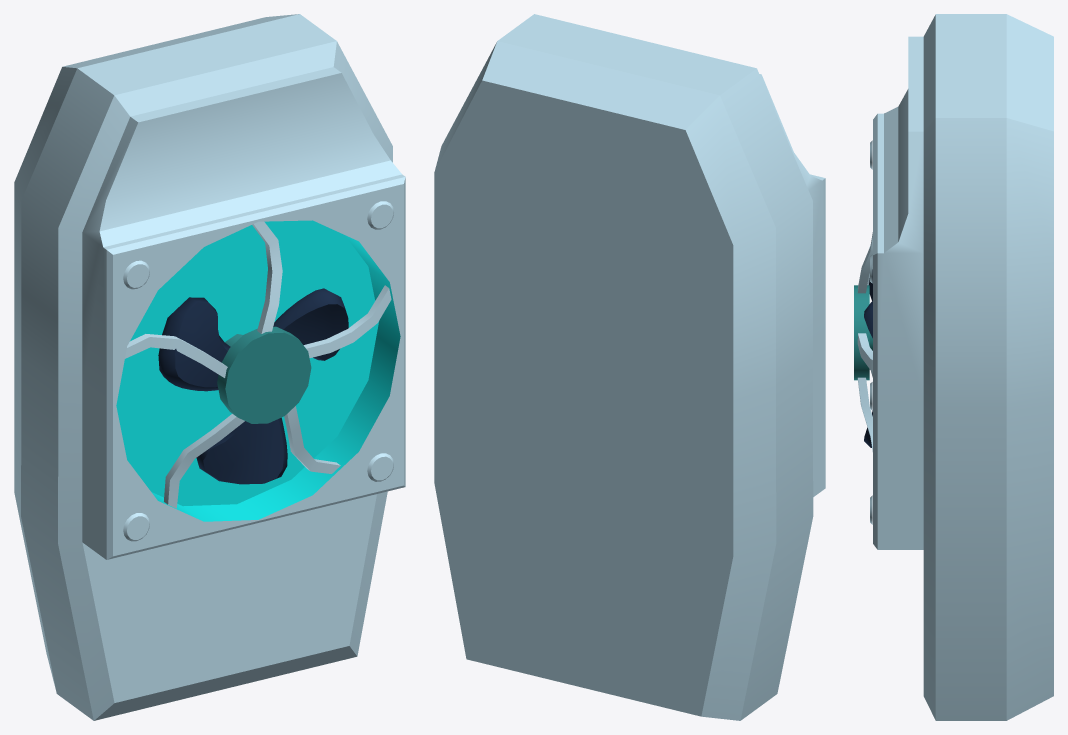
The model's file is bingdong_posun.FBX.
3 renders of one model, left to right at view 1: azimuth 30°, elevation 25°; view 2: azimuth 150°, elevation 25°; view 3: azimuth 270°, elevation 25°, orthographic. The views are drawn at different scales.
Parts seen in each view (by area): view 1: bingdong_posun_01, bingdong_posun_03, bingdong_posun_02, bingdong_posun_04; view 2: bingdong_posun_03, bingdong_posun_02, bingdong_posun_01; view 3: bingdong_posun_02, bingdong_posun_01, bingdong_posun_03, bingdong_posun_04.
Boxes of the visible parts, left/top/right/bottom form: bingdong_posun_01: left=82, top=67, right=405, bottom=559; bingdong_posun_03: left=14, top=41, right=231, bottom=720; bingdong_posun_02: left=164, top=14, right=392, bottom=692; bingdong_posun_04: left=125, top=221, right=391, bottom=508; bingdong_posun_03: left=577, top=41, right=813, bottom=720; bingdong_posun_02: left=434, top=14, right=645, bottom=687; bingdong_posun_01: left=759, top=74, right=825, bottom=496; bingdong_posun_02: left=923, top=66, right=1053, bottom=720; bingdong_posun_01: left=870, top=36, right=923, bottom=549; bingdong_posun_03: left=923, top=14, right=1053, bottom=83; bingdong_posun_04: left=854, top=232, right=872, bottom=451.
Bounding box in the file's own units: 64.81 × 115 × 35.
